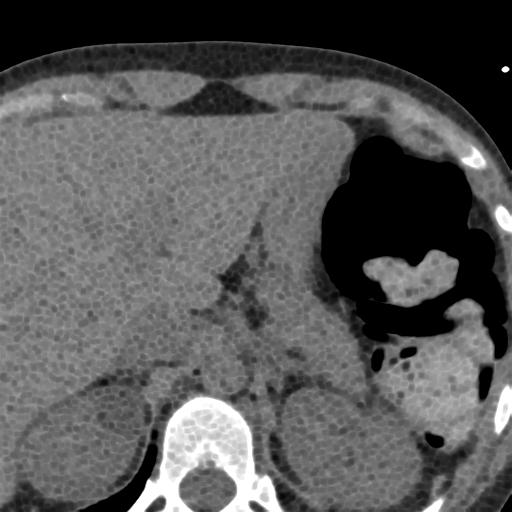Lesion: (95, 383, 148, 439)
